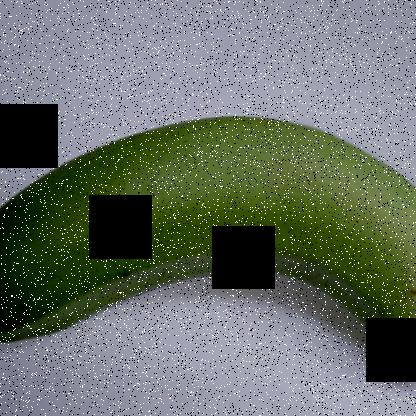freshunripe: (1, 96, 415, 400)
